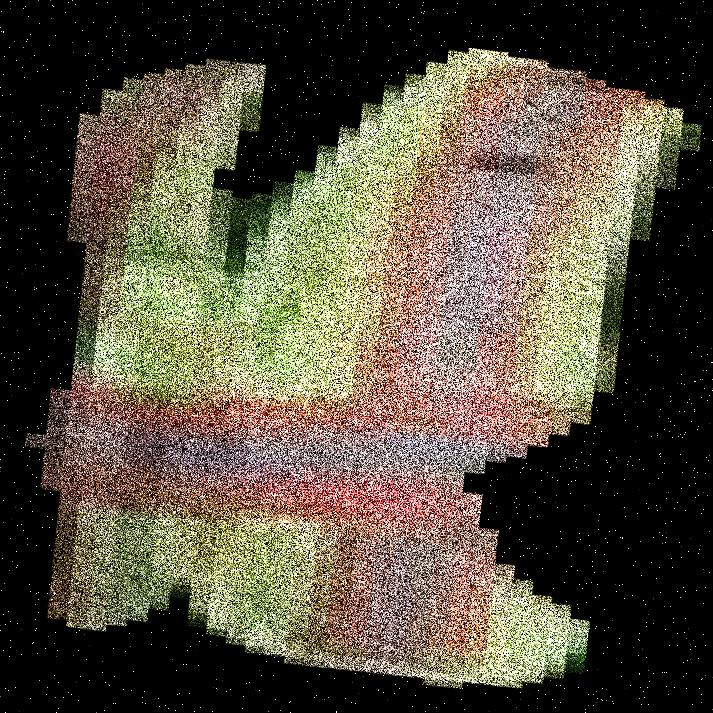Colete: (99, 0, 604, 712)
